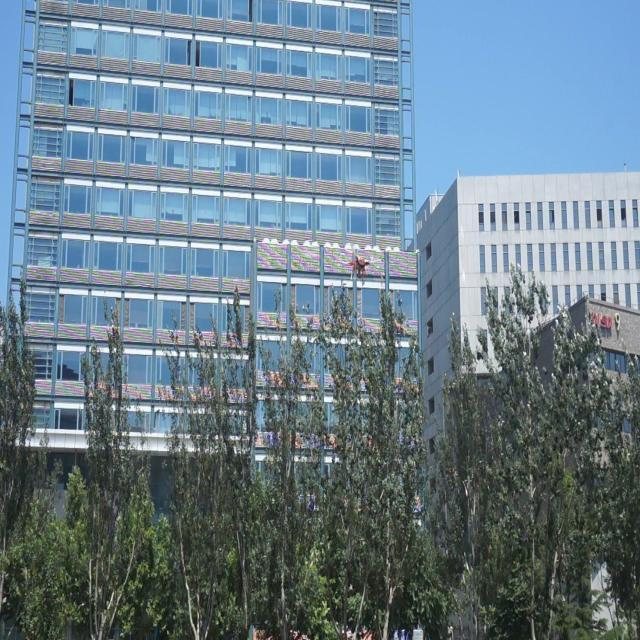drone: (340, 245, 381, 288)
